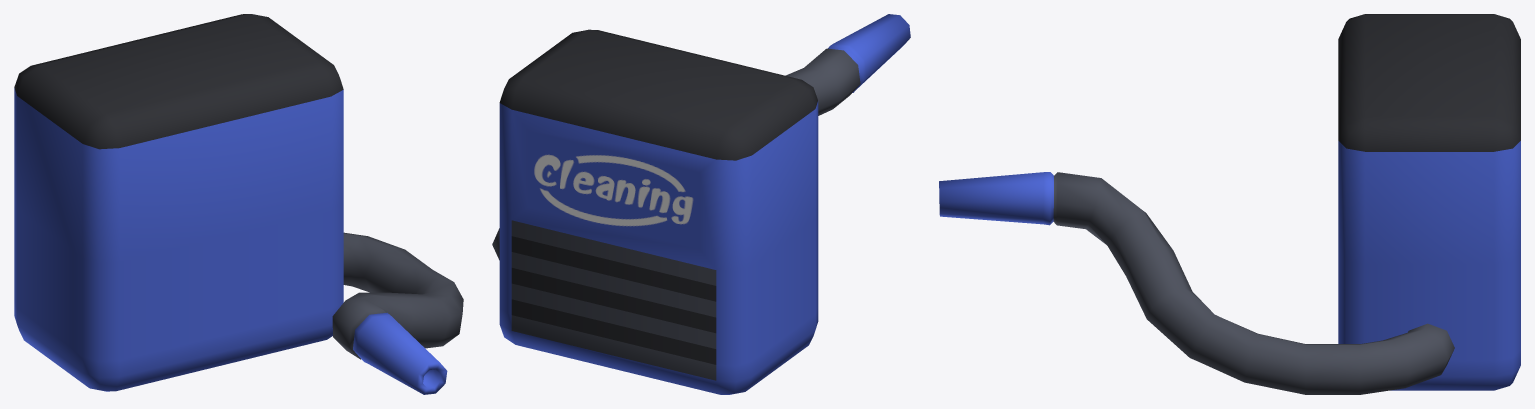
Rendered from Cleaner_Player.fbx.
3 renders of one model, left to right at view 1: azimuth 30°, elevation 25°; view 2: azimuth 150°, elevation 25°; view 3: azimuth 270°, elevation 25°, orthographic. The views are drawn at different scales.
Parts seen in each view (by area): view 1: Cleaner_Player; view 2: Cleaner_Player; view 3: Cleaner_Player.
Part boxes in pixels (x1=…): Cleaner_Player: x1=14, y1=14, x2=463, y2=394; Cleaner_Player: x1=492, y1=14, x2=910, y2=394; Cleaner_Player: x1=939, y1=14, x2=1520, y2=394.
Bounding box in the file's own units: 2.45 × 1.99 × 3.83.
